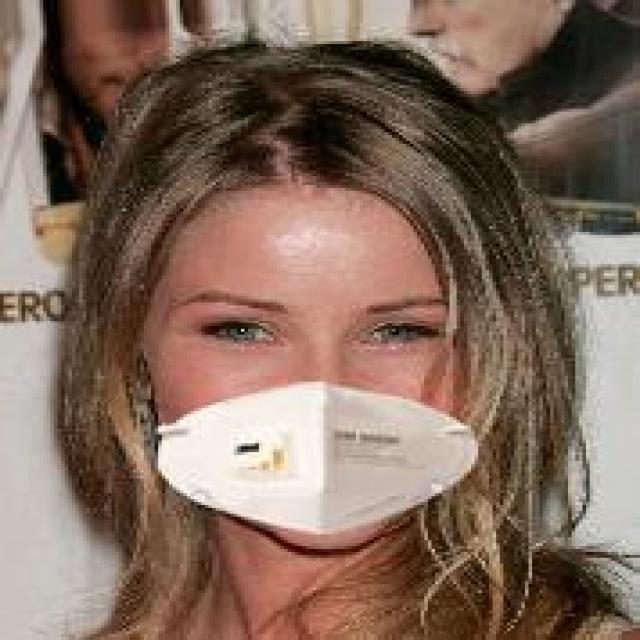mask: (97, 53, 586, 558)
